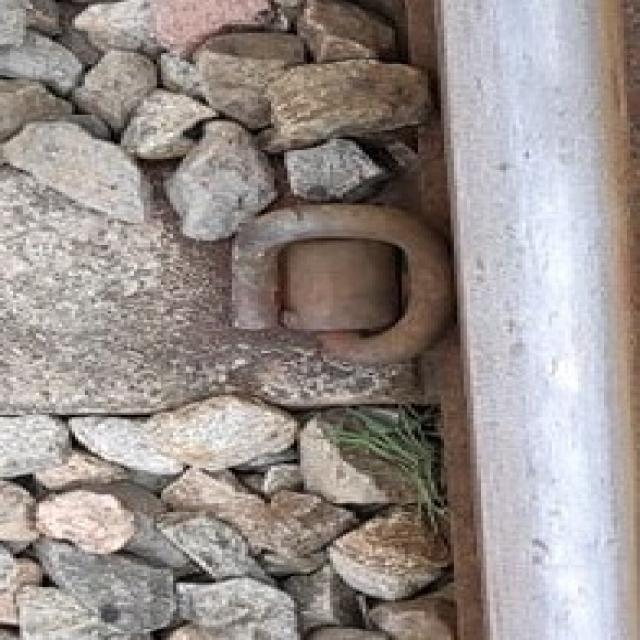track_bolt: (215, 197, 452, 374)
